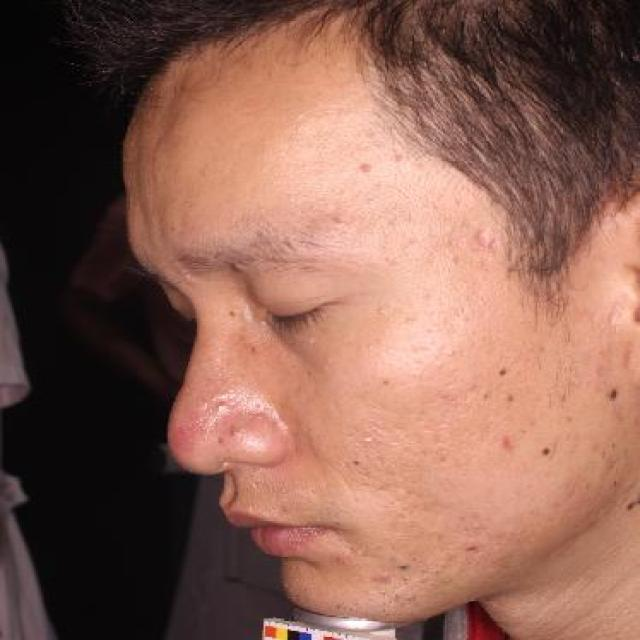blackhead: (342, 450, 370, 473)
darkspot: (493, 434, 517, 451)
nodules: (353, 158, 377, 177), (372, 569, 394, 583), (401, 311, 418, 329), (373, 303, 392, 319), (211, 400, 228, 412), (320, 362, 332, 376)
